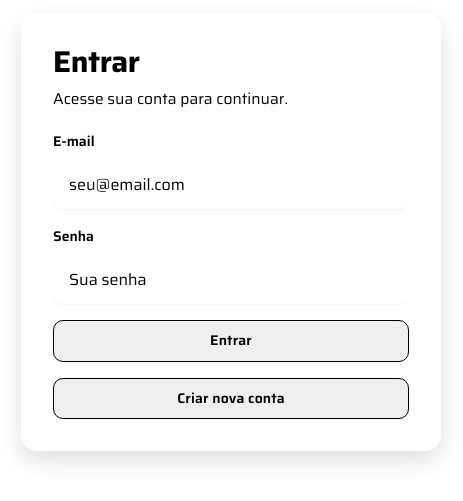
Test: Login page integration › valida campos obrigatorios antes de enviar
This screenshot has width=463, height=501.
Click the button "Entrar": (231, 341) [53,320,409,362]
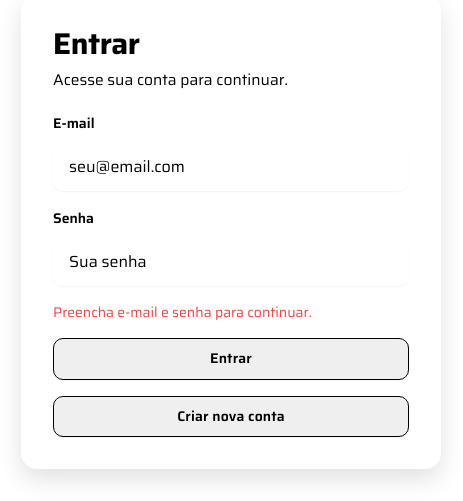
Check: the text "Preencha e-mail e senha para continuar." is shown, box [53,301,312,323]
